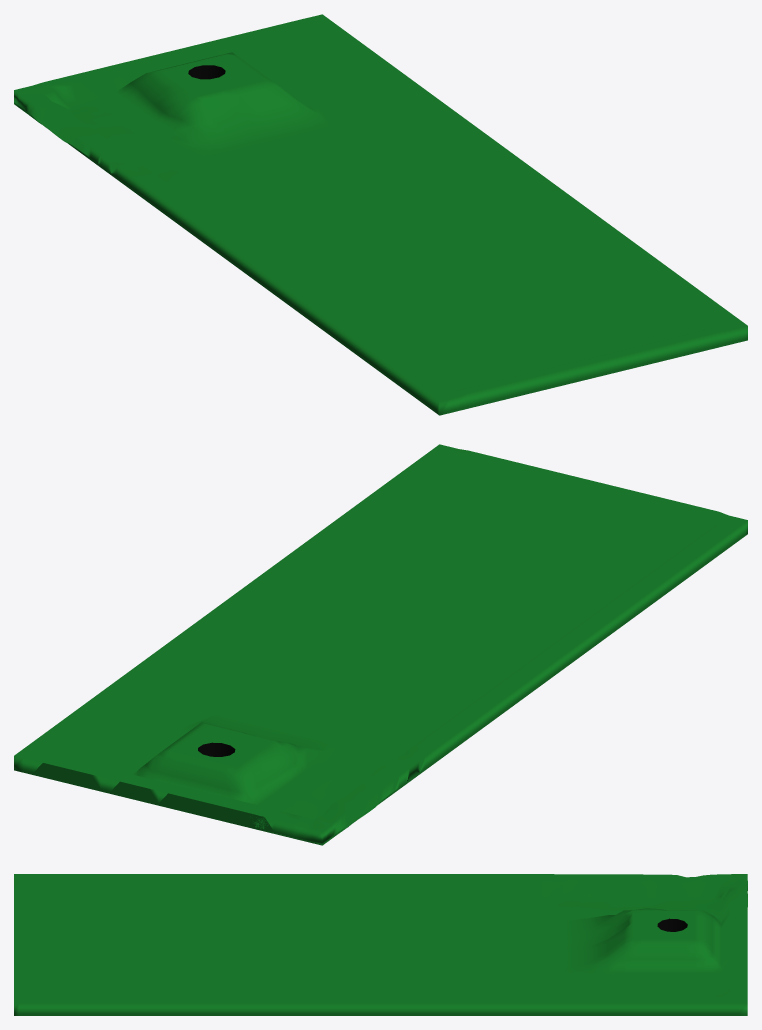
The model's file is campo_golf.fbx.
3 renders of one model, top to bottom at view 1: azimuth 30°, elevation 25°; view 2: azimuth 150°, elevation 25°; view 3: azimuth 270°, elevation 25°, orthographic. The views are drawn at different scales.
Parts seen in each view (by area): view 1: terreno; view 2: terreno; view 3: terreno.
Boxes of the visible parts, left/top/right/bottom form: terreno: left=14, top=14, right=747, bottom=415; terreno: left=14, top=444, right=747, bottom=845; terreno: left=14, top=874, right=747, bottom=1015.
Size of the model in its own units: 4935 by 424 by 11727.
